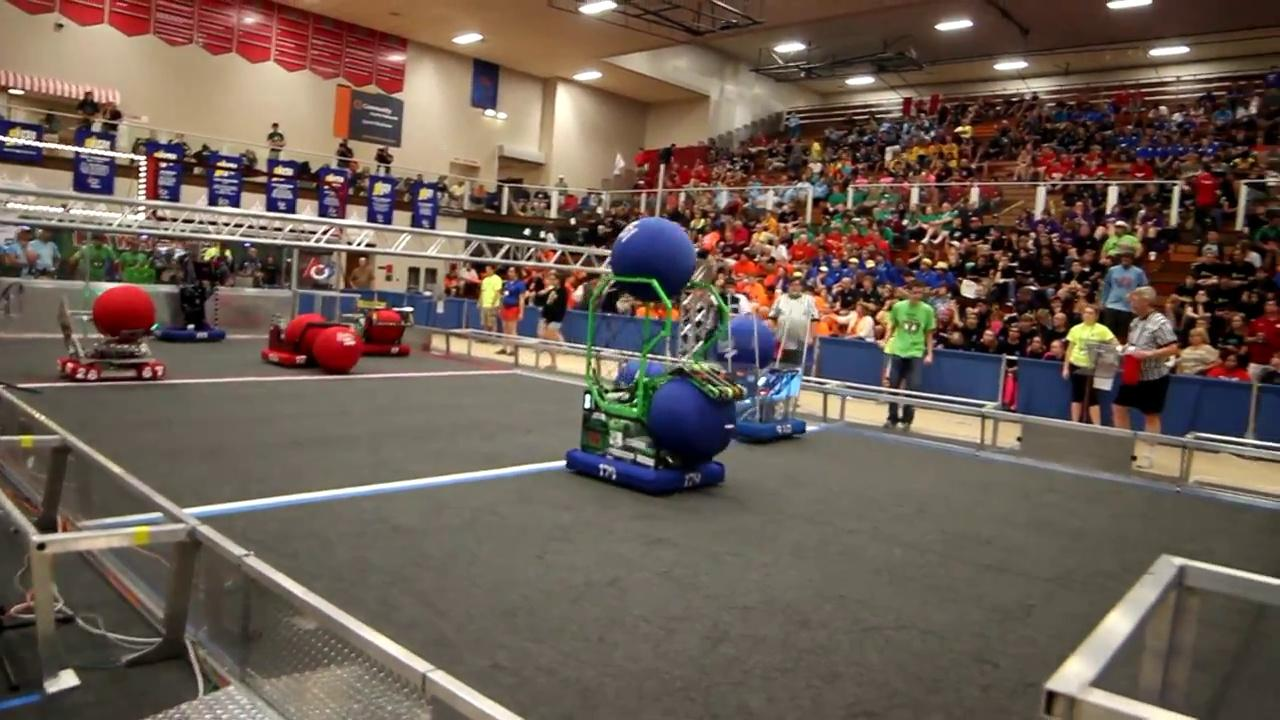robot: (568, 269, 736, 500), (717, 303, 818, 449), (53, 283, 170, 382), (259, 310, 353, 373), (152, 279, 233, 347), (350, 301, 416, 360)
